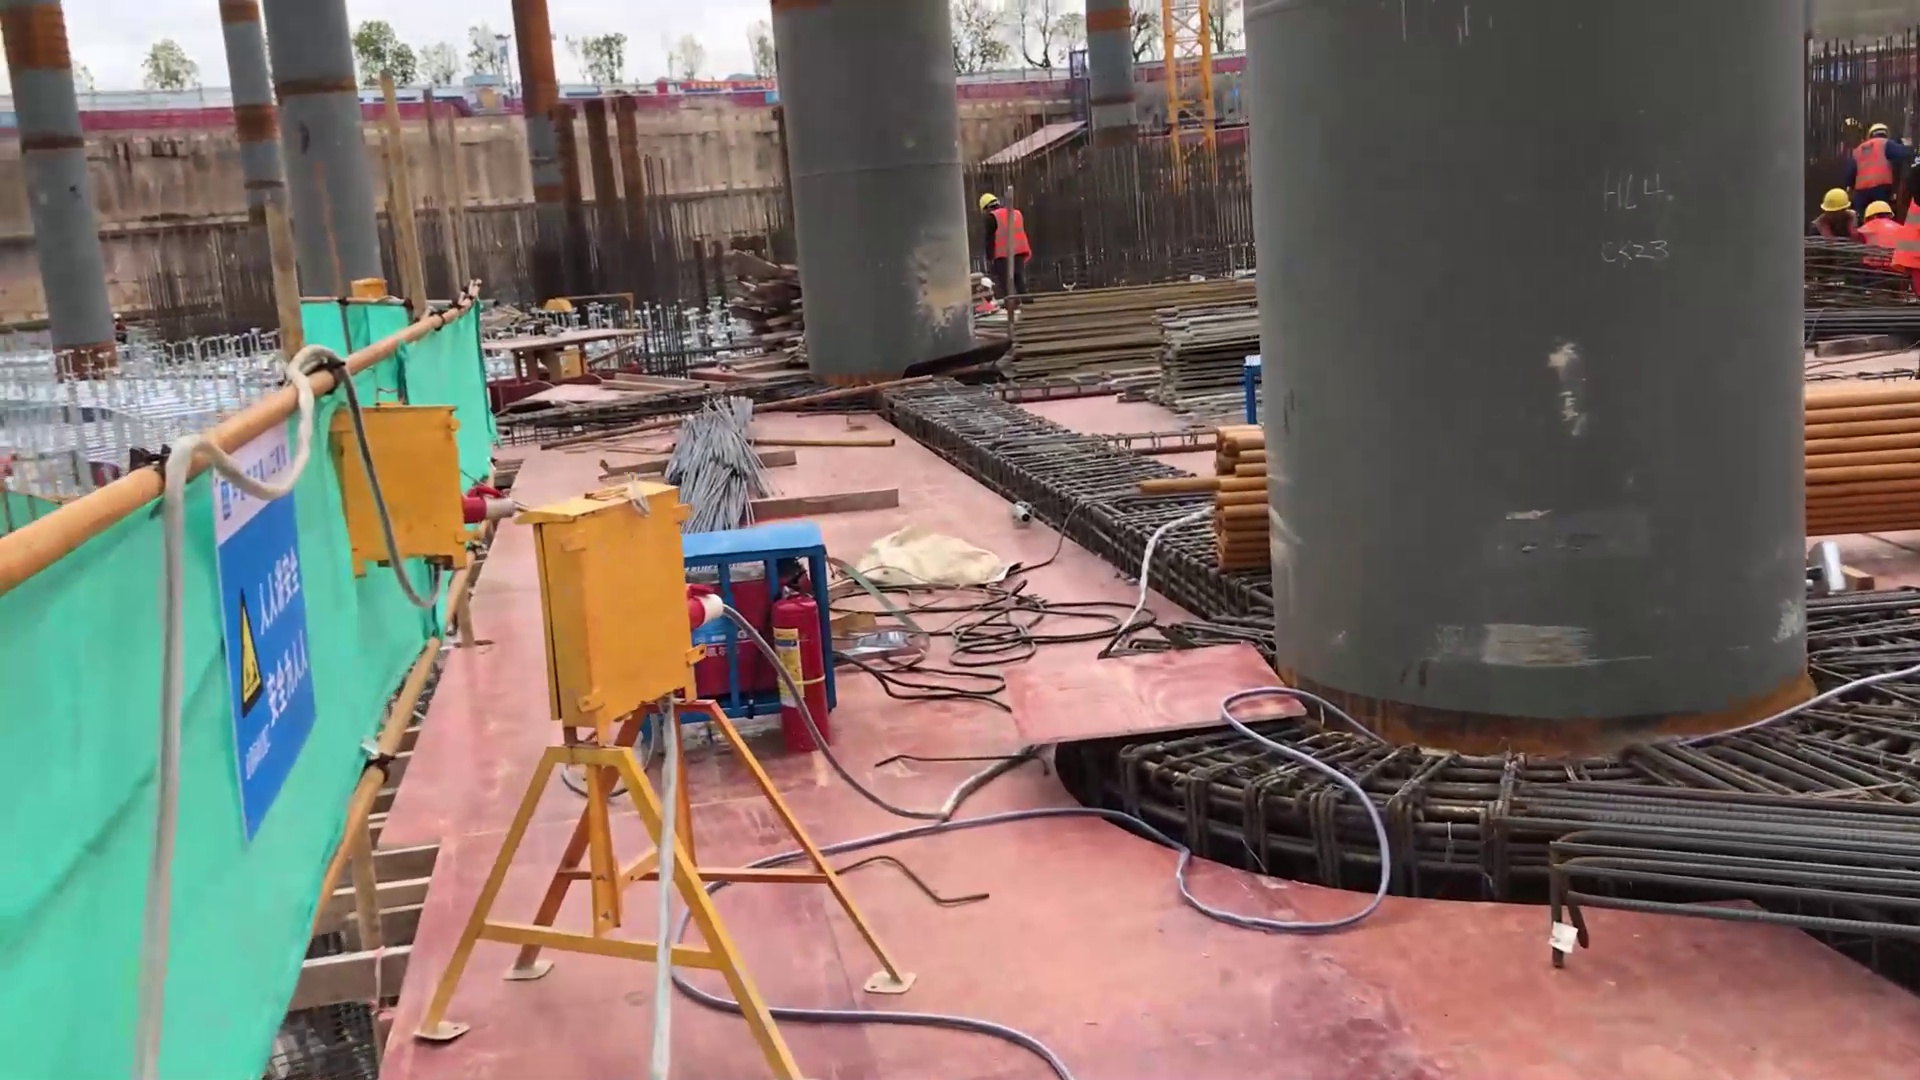board: (1019, 272, 1246, 379)
cutter: (489, 314, 656, 409)
ebox: (503, 511, 654, 707), (374, 411, 446, 559), (556, 352, 608, 422)
helmet: (1816, 188, 1847, 215), (1863, 198, 1894, 220), (1867, 122, 1890, 138), (979, 191, 994, 209), (978, 275, 994, 287)
person: (971, 186, 1036, 308), (1839, 116, 1905, 205), (1816, 190, 1866, 260), (1860, 196, 1897, 261), (1908, 146, 1920, 308)
rebar: (1531, 798, 1920, 982), (664, 388, 773, 535), (1804, 305, 1920, 338)
slogan: (154, 436, 371, 794)
vest: (1848, 134, 1897, 193), (990, 207, 1037, 260), (1892, 191, 1920, 272), (1812, 210, 1857, 243), (1857, 216, 1893, 248), (976, 294, 998, 312)
